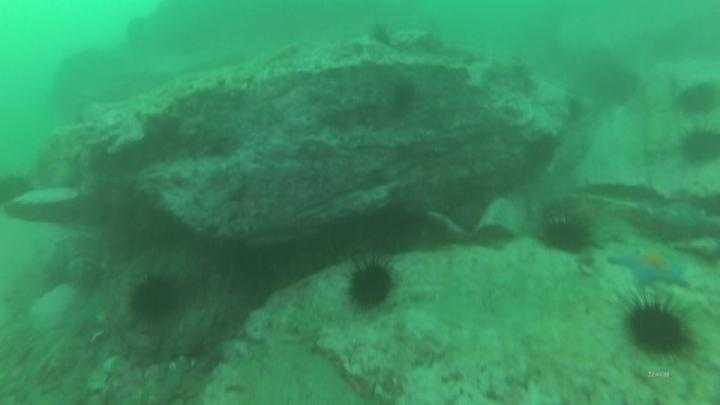echinus: (621, 288, 692, 364), (126, 271, 184, 322), (345, 258, 399, 312), (545, 214, 591, 261), (673, 78, 720, 120), (606, 66, 644, 109), (684, 126, 720, 169), (390, 81, 418, 113), (369, 24, 394, 48)
starfish: (608, 248, 698, 292)
